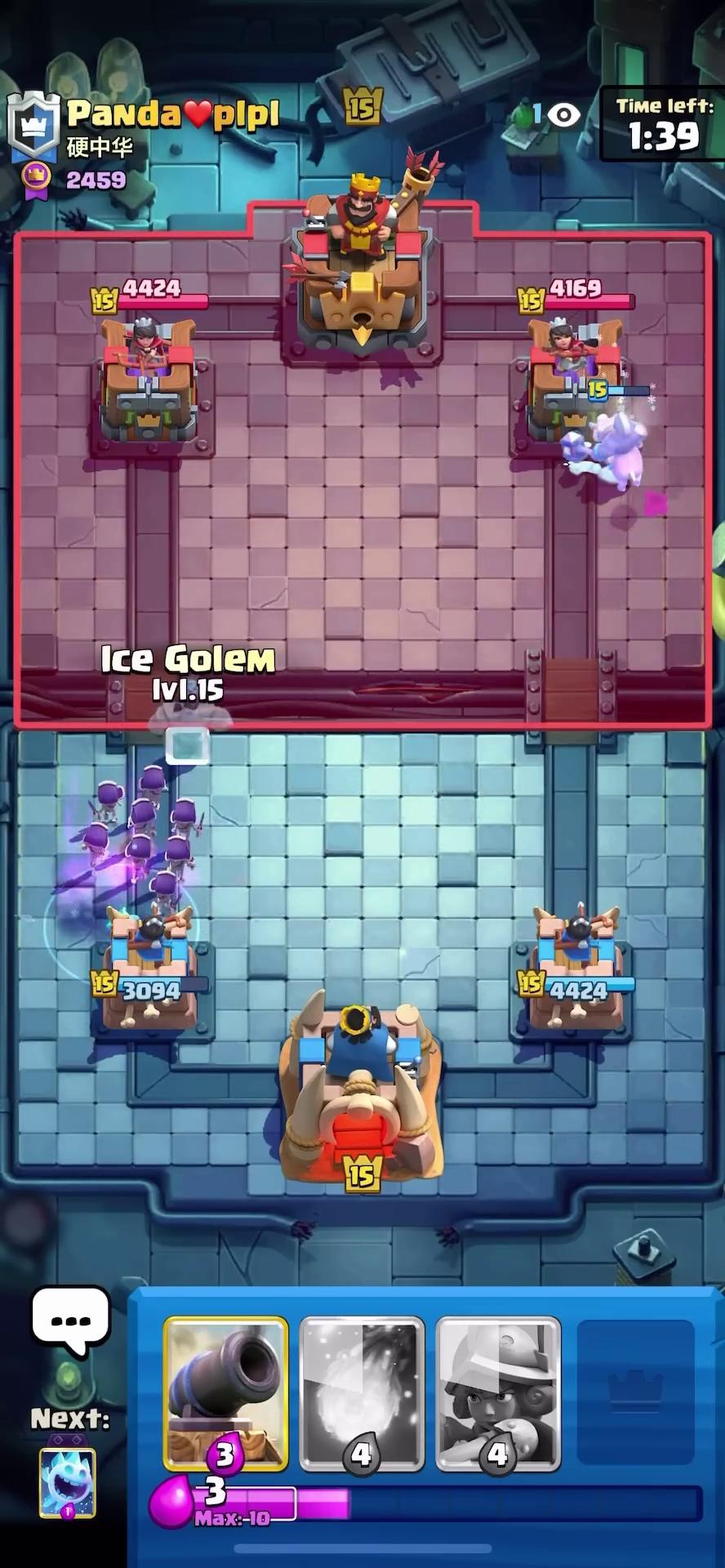evo_skeletons: (71, 759, 206, 921)
hog_rider: (557, 386, 659, 498)
